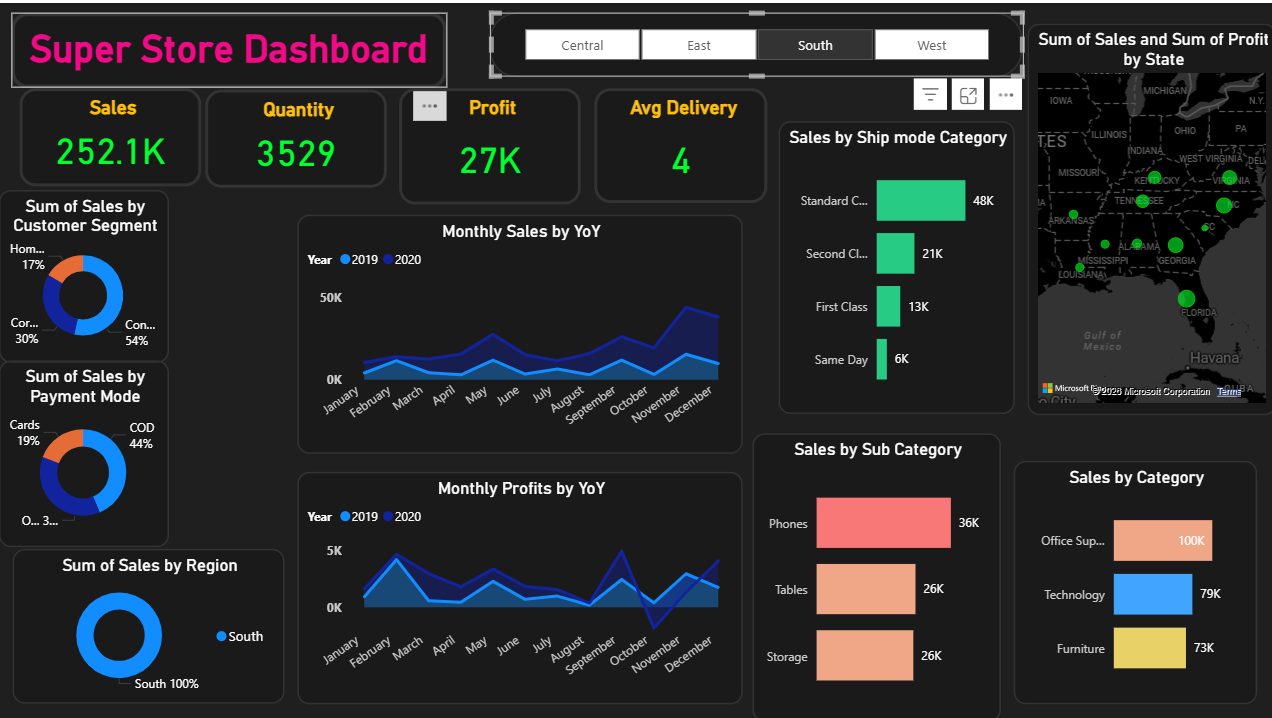

The page's visual inventory and layout, read from the dashboard file:
{"tool":"powerbi","page":{"name":"Page 1","canvas":[1280,720],"ordinal":0},"visuals":[{"type":"clusteredBarChart","title":"Sales by Category","fields":{"Category":["SuperStore_Sales_Dataset.Category"],"Y":["Sum(SuperStore_Sales_Dataset.Sales)"]},"box":[1016.7,458.3,243.3,243.3],"z":0},{"type":"clusteredBarChart","title":"Sales by Sub Category","fields":{"Category":["SuperStore_Sales_Dataset.Sub-Category"],"Y":["Sum(SuperStore_Sales_Dataset.Sales)"]},"box":[754.3,431.4,248.6,288.6],"z":1000},{"type":"clusteredBarChart","title":"Sales by Ship mode Category","fields":{"Category":["SuperStore_Sales_Dataset.Ship Mode"],"Y":["Sum(SuperStore_Sales_Dataset.Sales)"]},"box":[780,118.3,236.7,293.3],"z":2000},{"type":"stackedAreaChart","title":"Monthly Sales by YoY","fields":{"Y":["Sum(SuperStore_Sales_Dataset.Sales)"],"Category":["SuperStore_Sales_Dataset.Order Date.Variation.Date Hierarchy.Month","SuperStore_Sales_Dataset.Order Date.Variation.Date Hierarchy.Day"],"Series":["SuperStore_Sales_Dataset.Order Date.Variation.Date Hierarchy.Year"]},"box":[298.3,211.7,475,240],"z":3000},{"type":"stackedAreaChart","title":"Monthly Profits by YoY","fields":{"Category":["SuperStore_Sales_Dataset.Order Date.Variation.Date Hierarchy.Month","SuperStore_Sales_Dataset.Order Date.Variation.Date Hierarchy.Day"],"Series":["SuperStore_Sales_Dataset.Order Date.Variation.Date Hierarchy.Year"],"Y":["Sum(SuperStore_Sales_Dataset.Profit)"]},"box":[298.3,458.3,446.7,233.3],"z":4000},{"type":"map","title":"Sum of Sales and Sum of Profit by State","fields":{"Category":["SuperStore_Sales_Dataset.State"],"Size":["Sum(SuperStore_Sales_Dataset.Sales)"]},"box":[1030,20,250,391.7],"z":5000},{"type":"donutChart","title":"Sum of Sales by Customer Segment","fields":{"Category":["SuperStore_Sales_Dataset.Segment"],"Y":["Sum(SuperStore_Sales_Dataset.Sales)"]},"box":[0,186.7,170,173.3],"z":6000},{"type":"donutChart","title":"Sum of Sales by Payment Mode","fields":{"Category":["SuperStore_Sales_Dataset.Payment Mode"],"Y":["Sum(SuperStore_Sales_Dataset.Sales)"]},"box":[0,358.3,170,186.7],"z":7000},{"type":"slicer","fields":{"Values":["SuperStore_Sales_Dataset.Region"]},"box":[491.7,10,533.3,65],"z":8000},{"type":"textbox","box":[12.9,10,435.7,75.7],"z":9000},{"type":"card","title":"Sales","fields":{"Values":["Sum(SuperStore_Sales_Dataset.Sales)"]},"box":[20,85,181.7,98.3],"z":10000},{"type":"card","title":"Quantity","fields":{"Values":["Sum(SuperStore_Sales_Dataset.Quantity)"]},"box":[206.7,86.7,181.7,98.3],"z":11000},{"type":"card","title":"Profit","fields":{"Values":["Sum(SuperStore_Sales_Dataset.Profit)"]},"box":[400,85,181.7,116.7],"z":12000},{"type":"card","title":"Avg Delivery","fields":{"Values":["Avg(SuperStore_Sales_Dataset.AverageDelivery)"]},"box":[596.7,85,173.3,115],"z":13000},{"type":"donutChart","fields":{"Category":["SuperStore_Sales_Dataset.Region"],"Y":["Sum(SuperStore_Sales_Dataset.Sales)"]},"box":[13.3,546.7,271.7,155],"z":14000}]}

Visuals, with their boxes in screenshot pixels (x1, y1, x2, y2), scaled from the page's 1280x720 canvas onto the 1272x718 screenshot:
"Sales by Category" clusteredBarChart: 1010,457,1252,700
"Sales by Sub Category" clusteredBarChart: 750,430,997,717
"Sales by Ship mode Category" clusteredBarChart: 775,118,1010,410
"Monthly Sales by YoY" stackedAreaChart: 296,211,768,450
"Monthly Profits by YoY" stackedAreaChart: 296,457,740,690
"Sum of Sales and Sum of Profit by State" map: 1024,20,1271,411
"Sum of Sales by Customer Segment" donutChart: 0,186,169,359
"Sum of Sales by Payment Mode" donutChart: 0,357,169,543
slicer - SuperStore_Sales_Dataset.Region: 489,10,1019,75
textbox: 13,10,446,85
"Sales" card: 20,85,200,183
"Quantity" card: 205,86,386,184
"Profit" card: 398,85,578,201
"Avg Delivery" card: 593,85,765,199
donutChart - SuperStore_Sales_Dataset.Region x Sum(SuperStore_Sales_Dataset.Sales): 13,545,283,700
